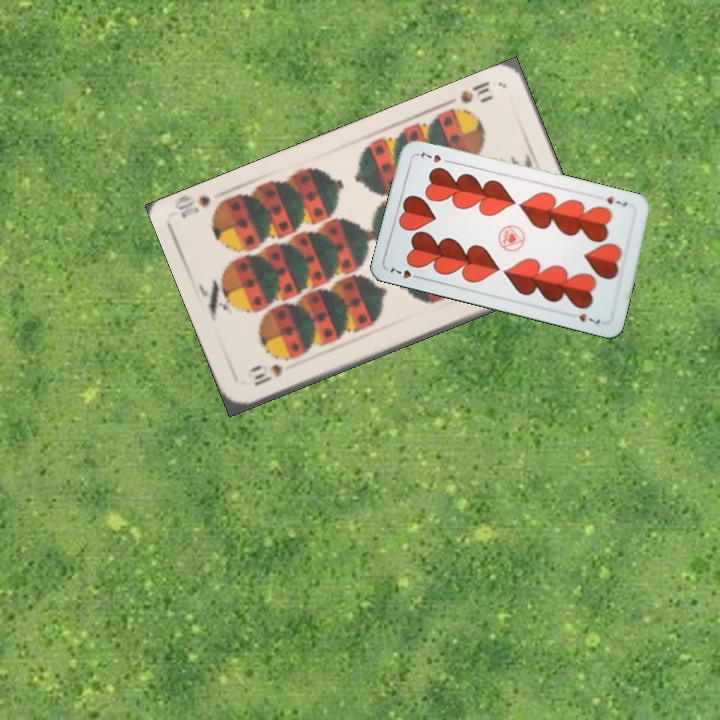H7: (386, 264, 425, 281), (603, 192, 630, 209)
S10: (456, 76, 493, 106), (250, 360, 286, 389)
